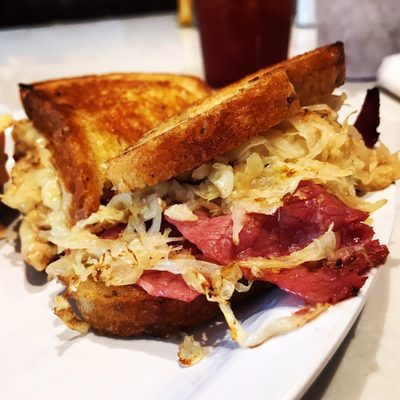pizza: (193, 0, 297, 90)
